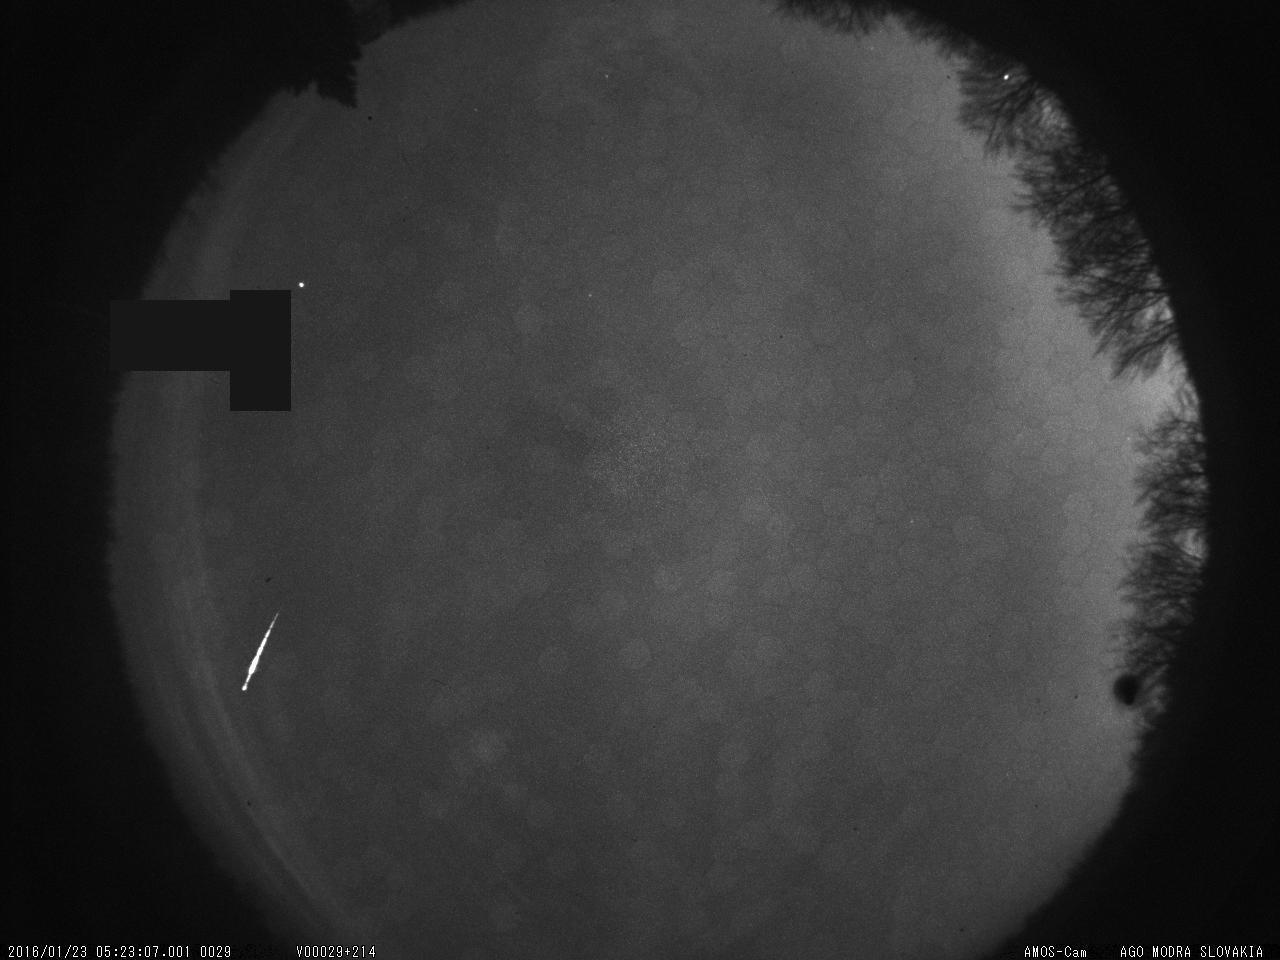meteor: (240, 602, 288, 699)
